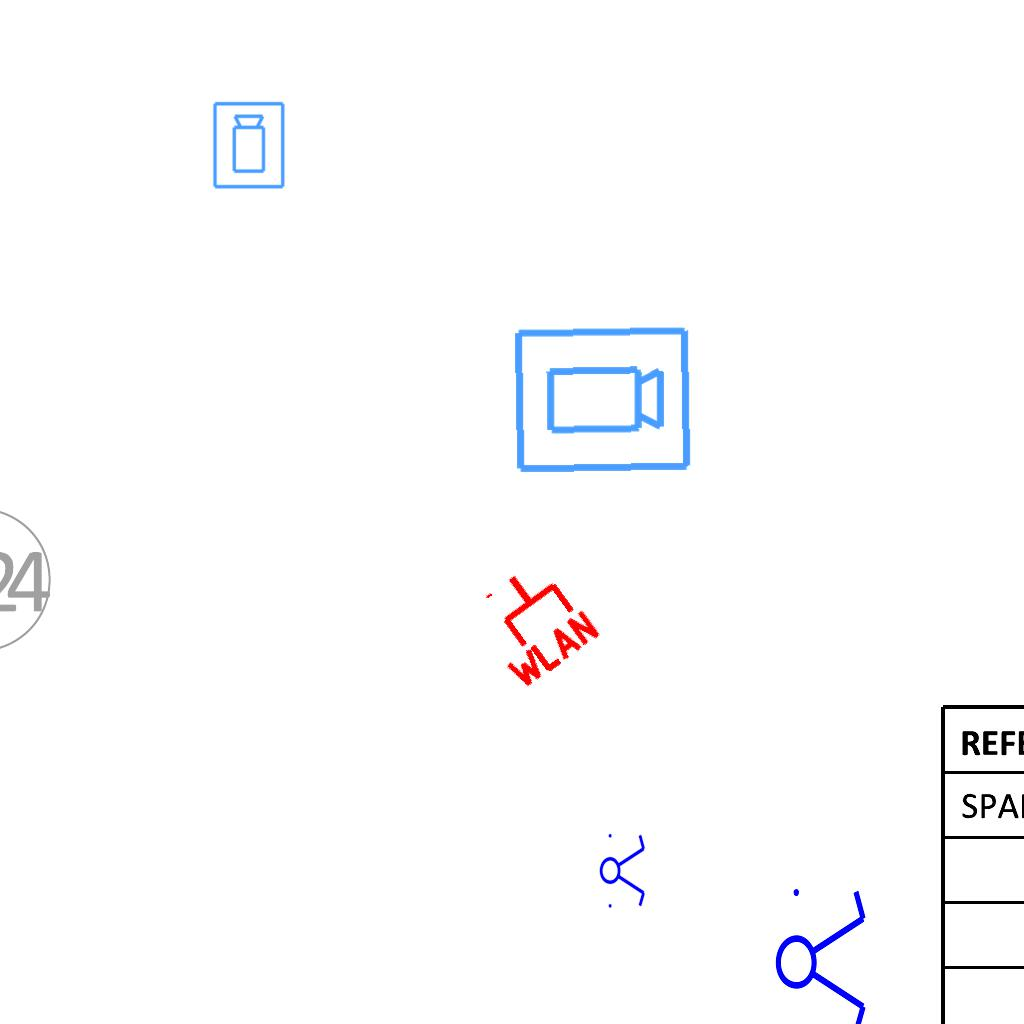KFO_Kamera_mit_Festobjektiv: (509, 322, 695, 480), (211, 100, 288, 191)
Serienschalter: (774, 877, 870, 1024), (599, 828, 647, 912)
WLAN: (459, 548, 606, 696)
